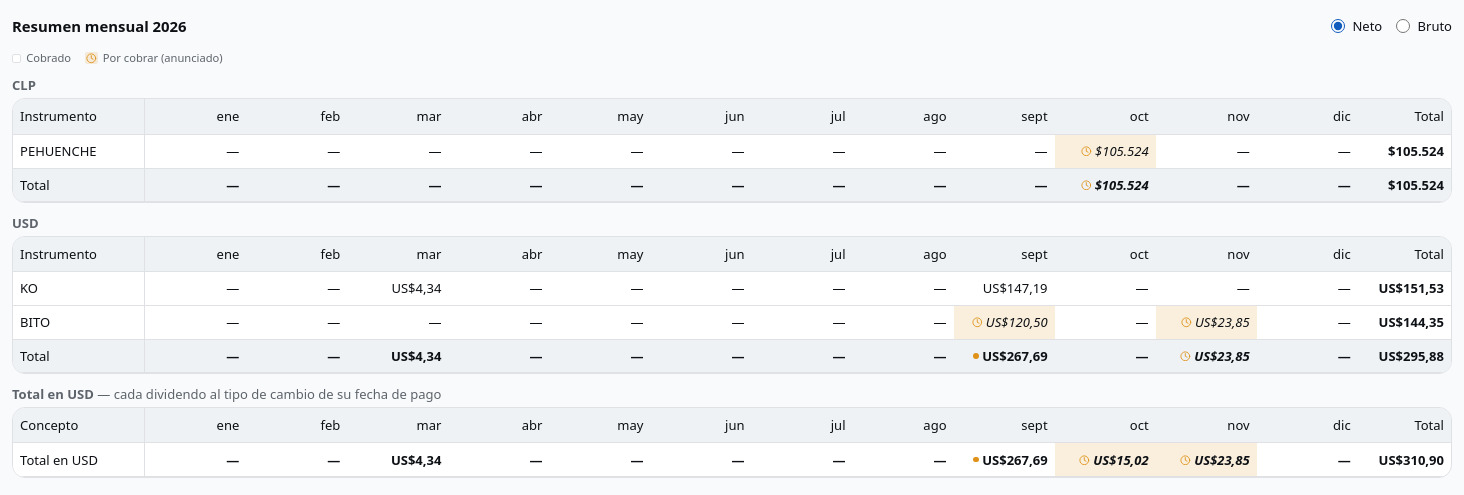
Test: MonthlySummary — cobrado y por cobrar › en la vista bruto usa los anunciados brutos
Step 1. Click the radio button labelled "Bruto" → (1403, 26), box [1396,19,1410,33]
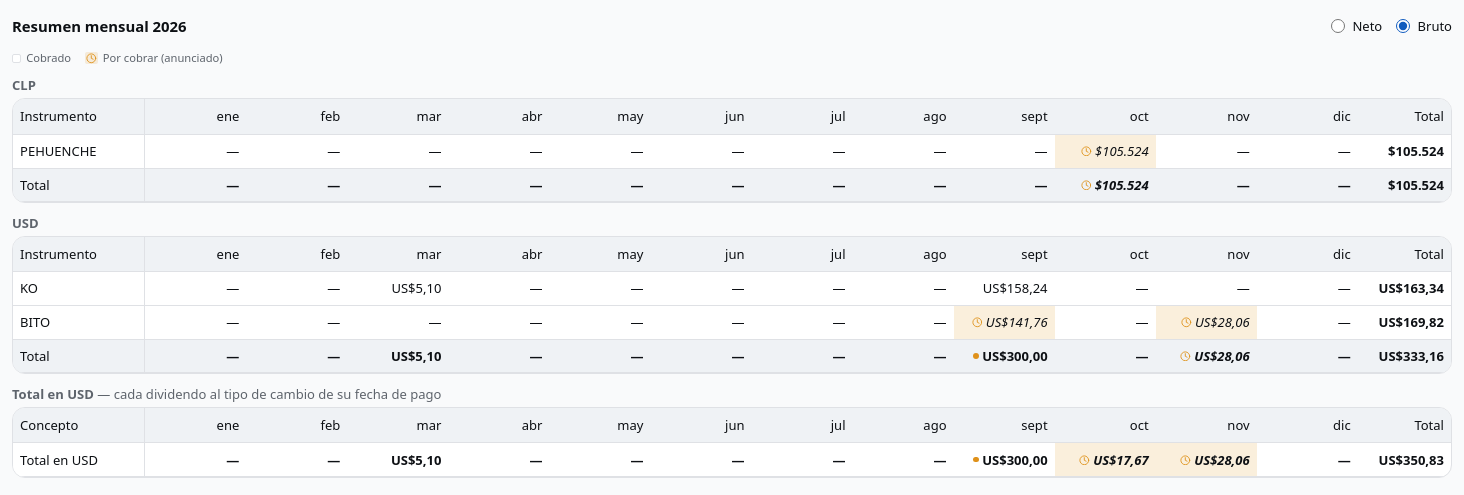
Step 2. Click the button "US$300,00" in the row of "US$350,83" → (1010, 460), box [973,450,1048,469]
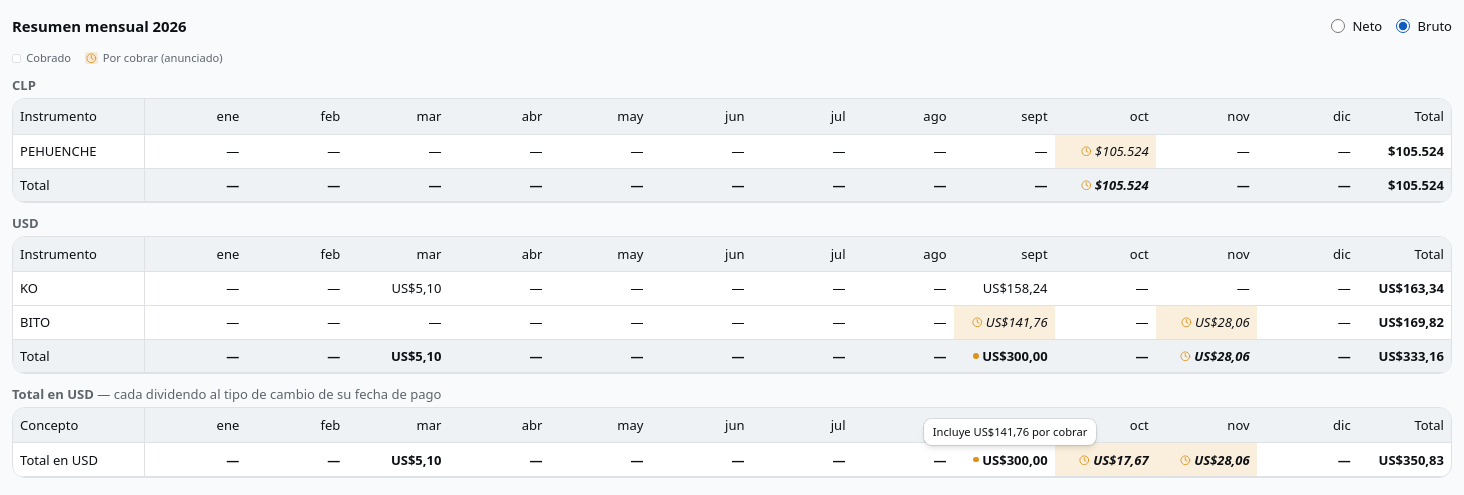
Expected: the tooltip reads "Incluye US$141,76 por cobrar", [933,424,1087,439]
